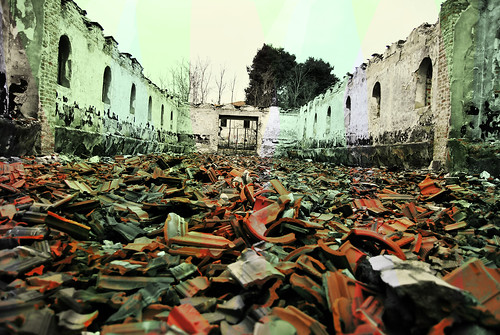building: (1, 2, 500, 145)
debris: (8, 151, 500, 335)
tree: (246, 36, 346, 112)
